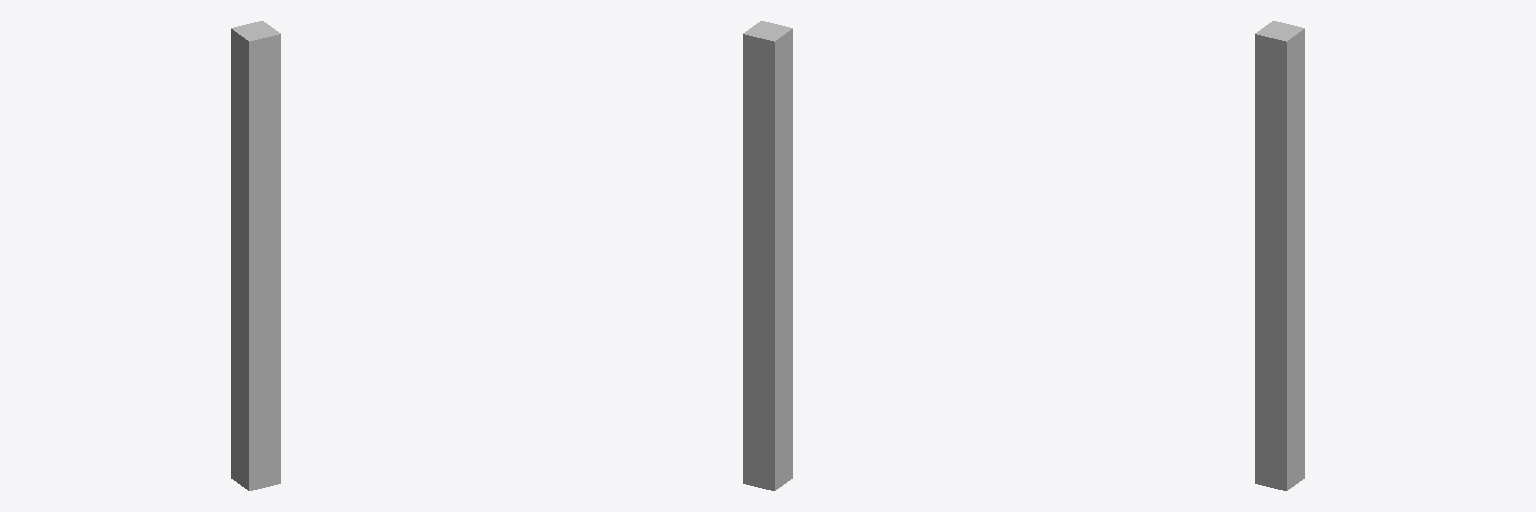
URDF robot description (simple_arm):
<?xml version="1.0"?>
<robot name="simple_arm">

  <link name="world"/>

  <!--base link-->
  <link name="base">
    <collision>
      <origin rpy="0 0 0" xyz="0 0 0.05"/>
      <geometry>
        <box size="0.02 0.02 0.1"/>
      </geometry>
    </collision>
    <visual>
      <origin rpy="0 0 0" xyz="0 0 0.05"/>
      <geometry>
        <box size="0.02 0.02 0.1"/>
      </geometry>
      <material name="gray">
        <color rgba="0.8 0.8 0.8 0.5"/>
      </material>
    </visual>
    <inertial>
      <origin rpy="0 0 0" xyz="0 0 0.05"/>
      <mass value="1"/>
      <inertia ixx="0.083" ixy="0.0" ixz="0.0"
               iyy="0.083" iyz="0.0"
               izz="0.0000666"/>
      <!-- Ixx = (1/12)*M*(y^2+z^2)  Iyy = (1/12)*M*(x^2+z^2)  Izz = (1/12)*M*(x^2+y^2) -->
    </inertial>
  </link>

  <!--first_arm link-->
  <link name="first_arm">
    <collision>
      <origin rpy="0 0 0" xyz="0 0 0.04"/>
      <geometry>
        <box size="0.02 0.02 0.1"/>
      </geometry>
    </collision>
    <visual>
      <origin rpy="0 0 0" xyz="0 0 0.04"/>
      <geometry>
        <box size="0.02 0.02 0.1"/>
      </geometry>
      <material name="gray">
        <color rgba="0.8 0.8 0.8 0.5"/>
      </material>
    </visual>
    <inertial>
      <origin rpy="0 0 0" xyz="0 0 0.04"/>
      <mass value="1"/>
      <inertia ixx="0.083" ixy="0.0" ixz="0.0"
               iyy="0.083" iyz="0.0"
               izz="0.0000666"/>
    </inertial>
  </link>

  <!--second_arm link-->
  <link name="second_arm">
    <collision>
      <origin rpy="0 0 0" xyz="0 0 0.04"/>
      <geometry>
        <box size="0.02 0.02 0.1"/>
      </geometry>
    </collision>
    <visual>
      <origin rpy="0 0 0" xyz="0 0 0.04"/>
      <geometry>
        <box size="0.02 0.02 0.1"/>
      </geometry>
      <material name="gray">
        <color rgba="0.8 0.8 0.8 0.5"/>
      </material>
    </visual>
    <inertial>
      <origin rpy="0 0 0" xyz="0 0 0.04"/>
      <mass value="1"/>
      <inertia ixx="0.083" ixy="0.0" ixz="0.0"
               iyy="0.083" iyz="0.0"
               izz="0.0000666"/>
    </inertial>
  </link>

  <!--world to base fixed-->
  <joint name="fixed" type="fixed">
    <parent link="world"/>
    <child link="base"/>
  </joint>

  <!--base to first_arm joint-->
  <joint name="joint1" type="revolute">
    <parent link="base"/>
    <child link="first_arm"/>
    <axis xyz="0 1 0"/>
    <origin xyz="0 0 0.09"/>
    <limit effort="1000" lower="-2.0" upper="2.0" velocity="0.5"/>
  </joint>

  <joint name="joint2" type="revolute">
    <parent link="first_arm"/>
    <child link="second_arm"/>
    <axis xyz="0 1 0"/>
    <origin xyz="0 0 0.09"/>
    <limit effort="1000" lower="-2.0" upper="2.0" velocity="0.5"/>
  </joint>

</robot>

--- What the picture shows (computed from the rendered views, not written in the file) ---
The picture shows the robot from 3 angles, left to right: view 1: azimuth 30°, elevation 25°; view 2: azimuth 150°, elevation 25°; view 3: azimuth 330°, elevation 25°; orthographic projection.
Robot: simple_arm — 4 links, 3 joints (2 revolute, 1 fixed); root link world; default pose: all joints at 0.
Visible links, largest first — view 1: second_arm, first_arm, base; view 2: second_arm, first_arm, base; view 3: second_arm, first_arm, base.
Boxes of the visible links, x1,y1,x2,y2 form: second_arm: [231, 21, 280, 206]; first_arm: [231, 180, 280, 357]; base: [231, 315, 280, 490]; second_arm: [743, 21, 792, 207]; first_arm: [743, 179, 792, 357]; base: [743, 318, 792, 490]; second_arm: [1255, 21, 1304, 207]; first_arm: [1255, 179, 1304, 357]; base: [1255, 318, 1304, 490].
Size in the robot's own frame: 0.02 by 0.02 by 0.27 metres.
Geometry: primitives only (box / cylinder / sphere), no mesh files.